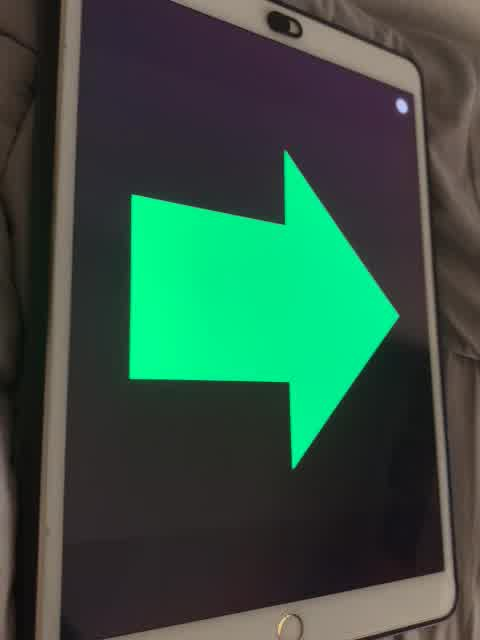right: (124, 137, 404, 474)
